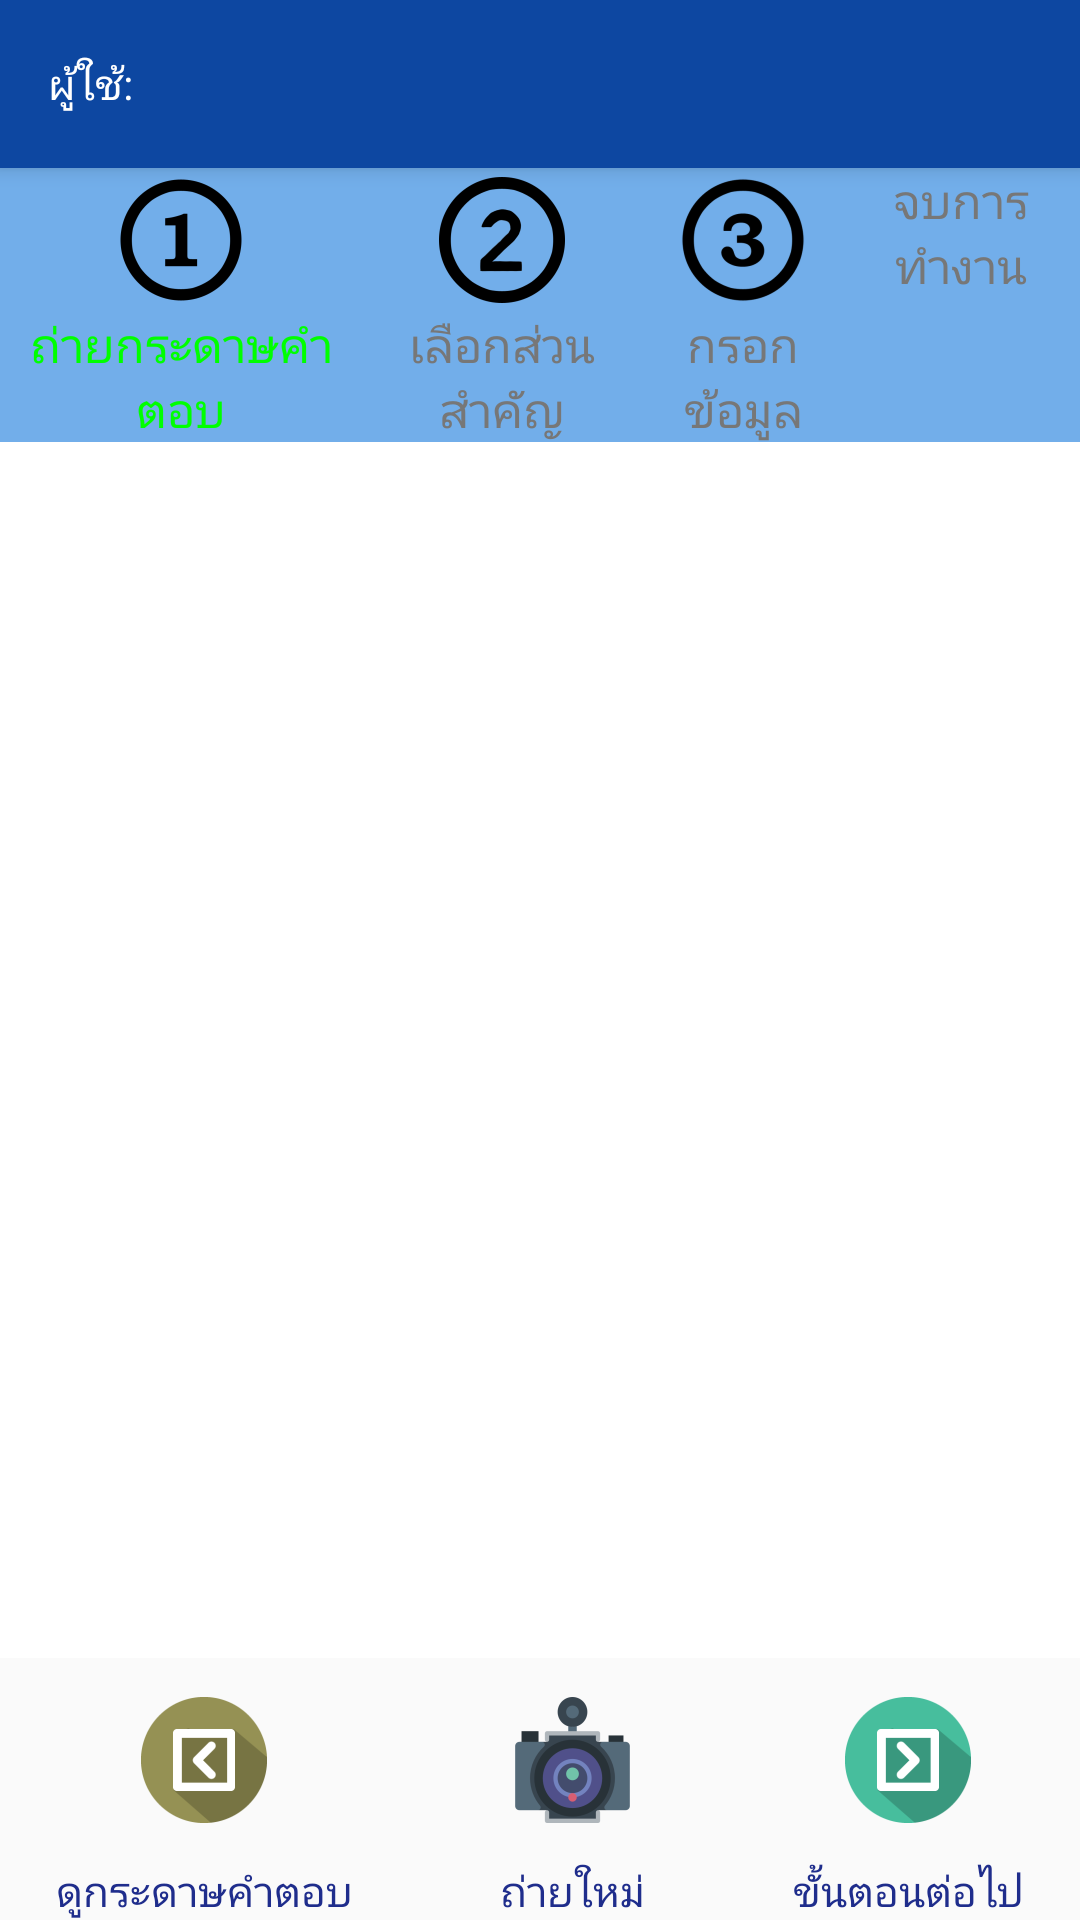

Where icons sit on this 1080x1920 app screen, as (x1, y1, x2, y2):
camera: (515, 1697, 630, 1823)
ถัดไป: (845, 1697, 971, 1823)
ย้อนกลับ: (141, 1697, 267, 1823)
